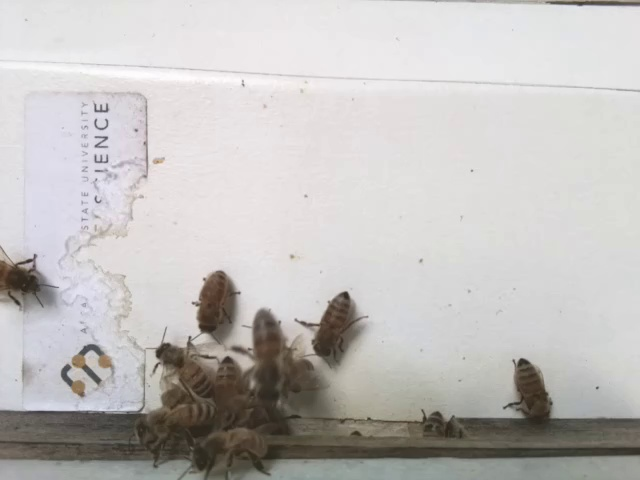bee: (174, 419, 285, 480), (294, 285, 377, 366), (140, 324, 220, 400), (121, 399, 221, 450), (500, 344, 561, 426), (185, 260, 249, 336), (1, 243, 62, 314), (241, 311, 294, 391), (210, 349, 250, 392)
